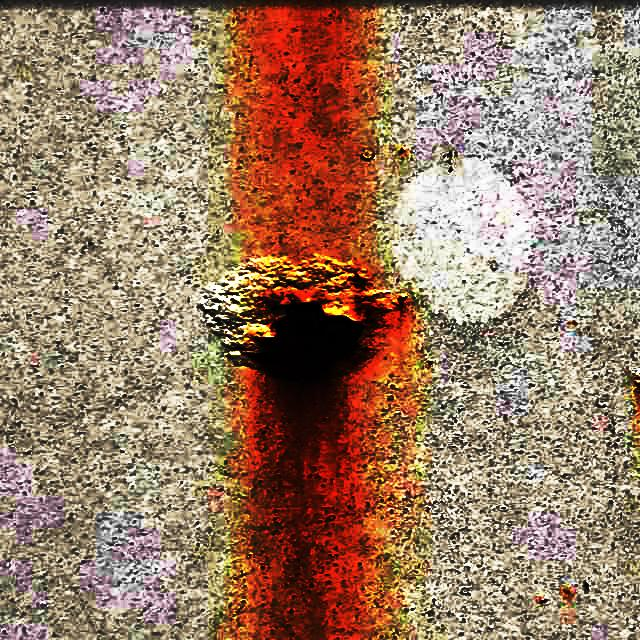Corrosion: (201, 256, 392, 382), (392, 294, 406, 308)
